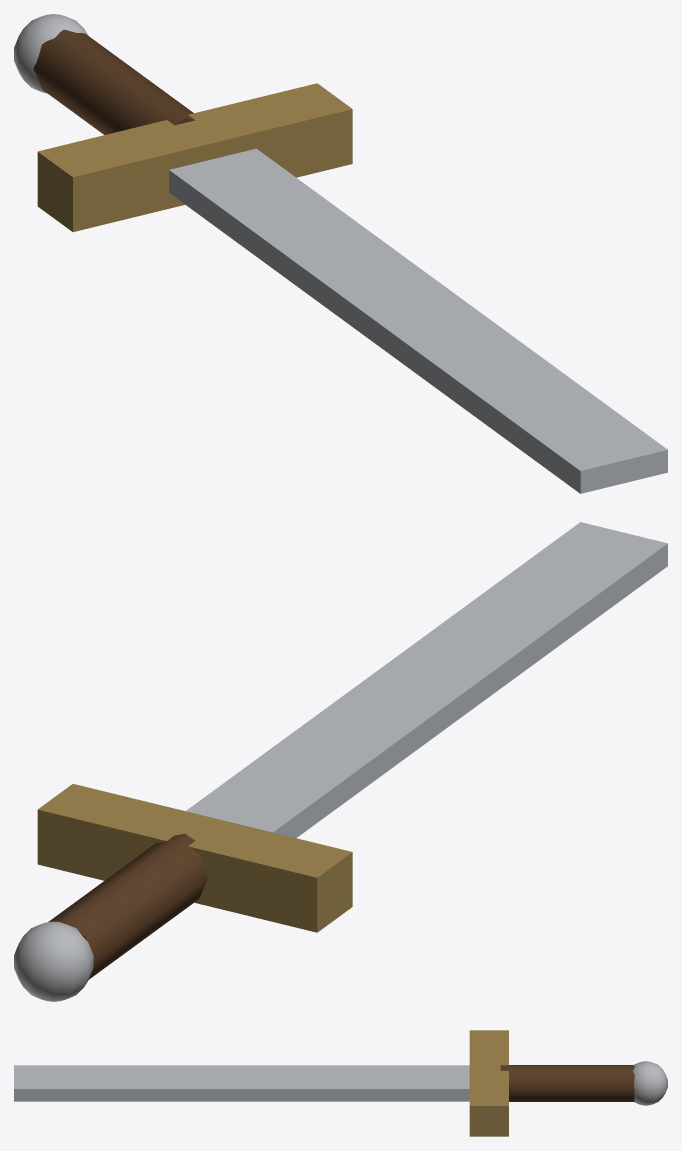
File: espada_comum.glb
3 renders of one model, top to bottom at view 1: azimuth 30°, elevation 25°; view 2: azimuth 150°, elevation 25°; view 3: azimuth 270°, elevation 25°, orthographic. The views are drawn at different scales.
Visible parts, largest first — view 1: arma; view 2: arma; view 3: arma.
Part boxes in pixels (box(x1,y1,x2,y2)): arma: box(14, 14, 667, 493); arma: box(14, 522, 667, 1001); arma: box(14, 1030, 667, 1136).
Size of the model in its own units: 0.32 by 0.08 by 1.17.
